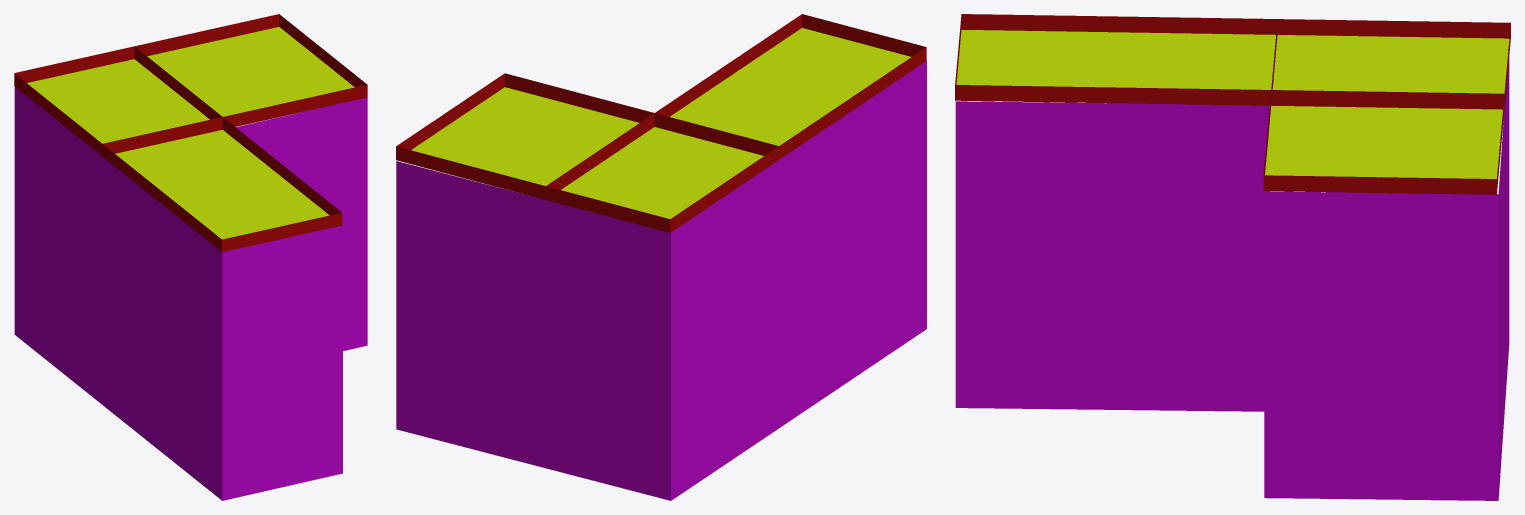
File: bgj_261.glb
3 views of the same model, side by side, from view 1: azimuth 30°, elevation 25°; view 2: azimuth 150°, elevation 25°; view 3: azimuth 270°, elevation 25° (orthographic). The views are drawn at different scales.
Visible parts, largest first — view 1: bgj_261; view 2: bgj_261; view 3: bgj_261.
Part boxes in pixels (<box>): bgj_261: <box>14,14,367,500</box>; bgj_261: <box>396,14,926,500</box>; bgj_261: <box>955,14,1510,500</box>.
Size of the model in its own units: 7.83 by 7.14 by 11.15.
